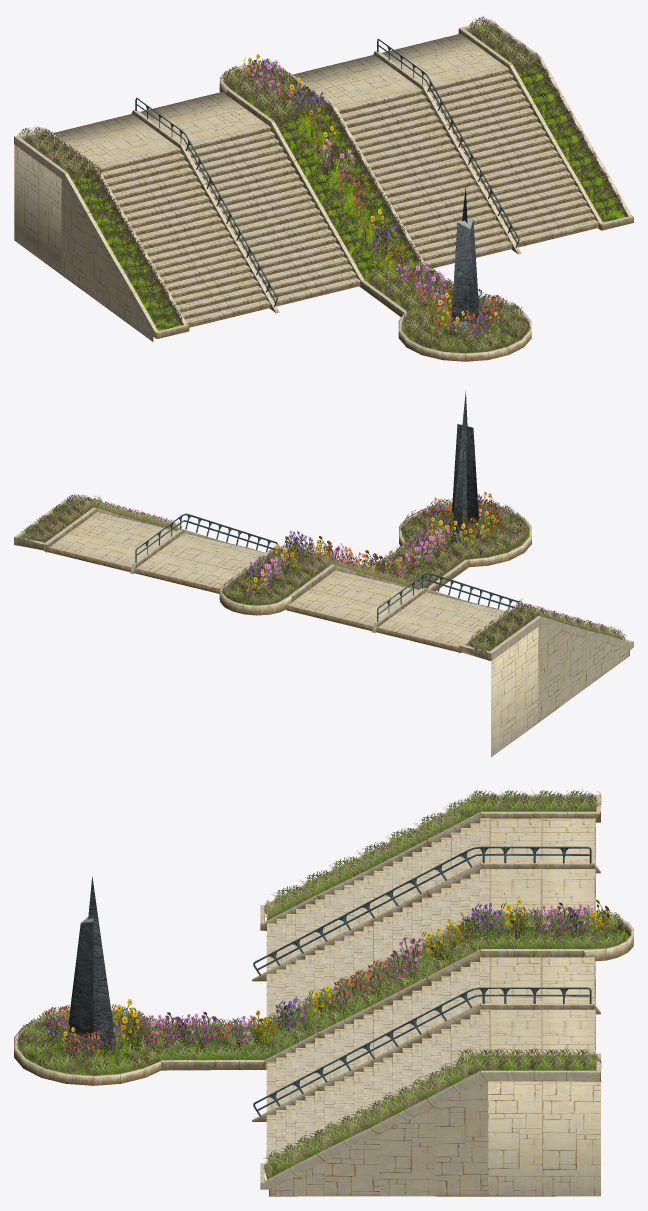
Rendered from a_SEcenter01.glb.
3 views of the same model, one above another, from view 1: azimuth 30°, elevation 25°; view 2: azimuth 150°, elevation 25°; view 3: azimuth 270°, elevation 25° (orthographic). The views are drawn at different scales.
Parts seen in each view (by area): view 1: a_SEcenter01; view 2: a_SEcenter01; view 3: a_SEcenter01.
Part boxes in pixels (bbox=[...]): a_SEcenter01: bbox=[14, 16, 633, 361]; a_SEcenter01: bbox=[14, 391, 633, 757]; a_SEcenter01: bbox=[14, 790, 633, 1196].
Bounding box in the file's own units: 22.06 × 6.76 × 20.81.
6 materials, 6 textured.
